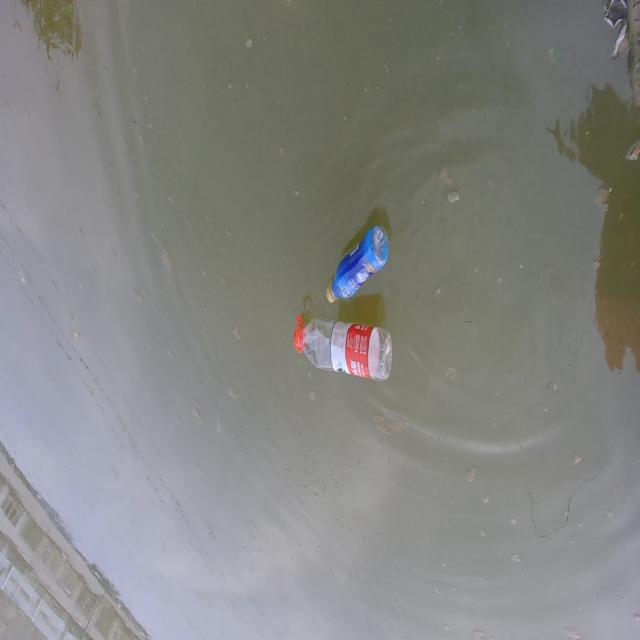Bottle: (290, 312, 394, 386), (322, 224, 392, 304)
